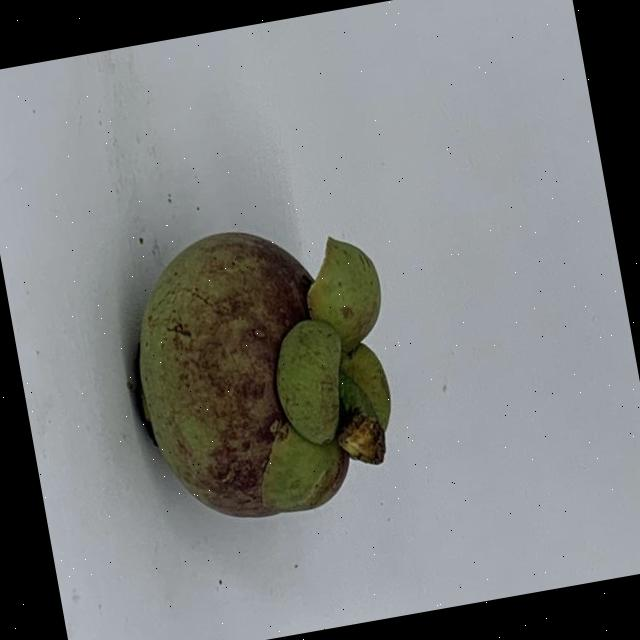mangosteen: (104, 198, 420, 540)
